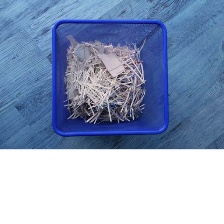book: (59, 33, 150, 126)
